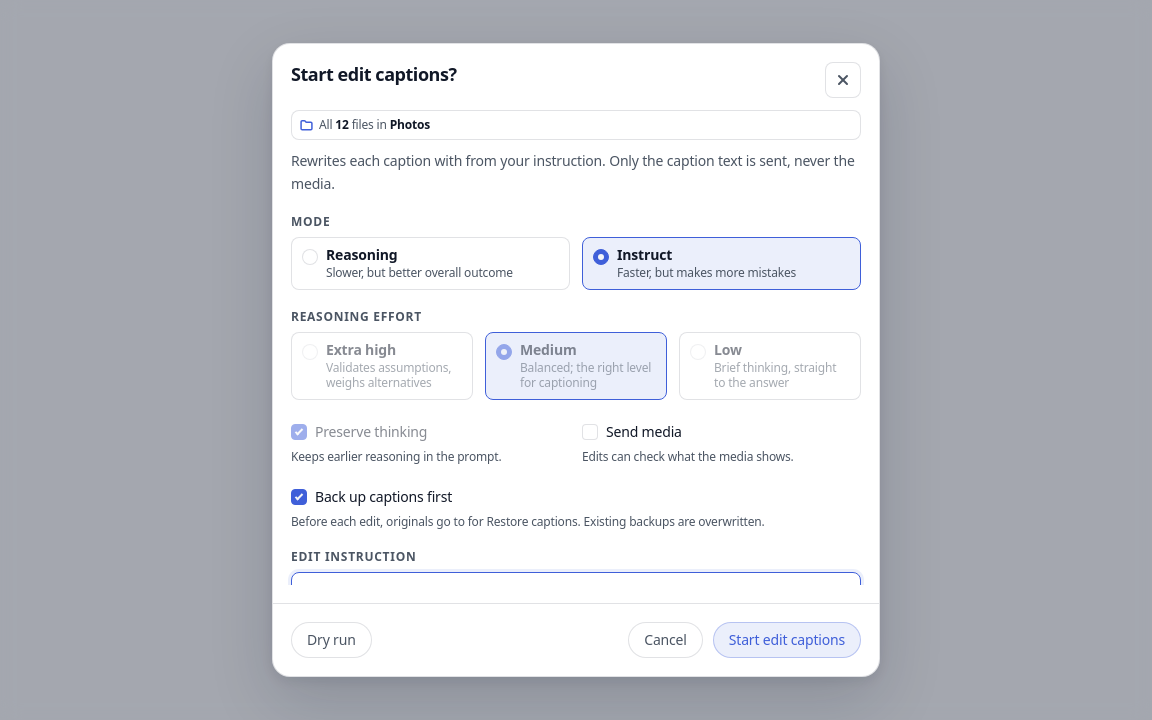
Scenario: EditCaptionsDialog › refuses to preview a blank instruction
The image size is (1152, 720).
Click the button "Dry run".
click(331, 640)  # box [291,622,372,658]
(page scrolled)
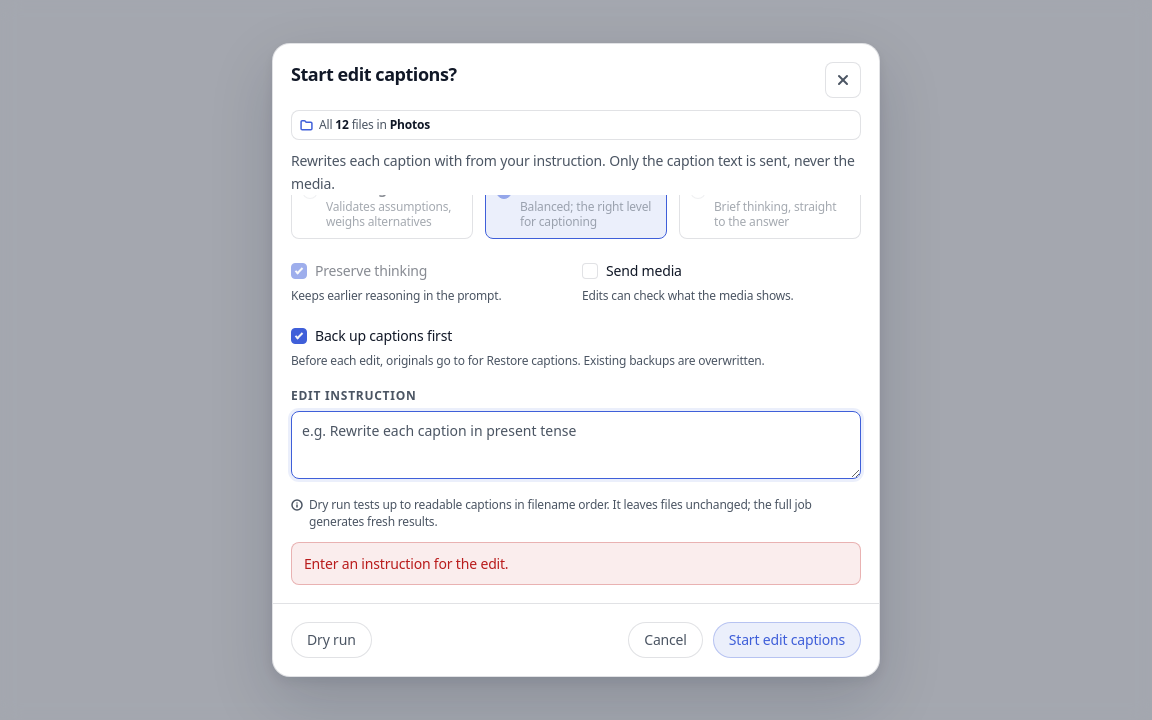
Expected: the message reads "Enter an instruction for the edit.", [304,554,508,573]
